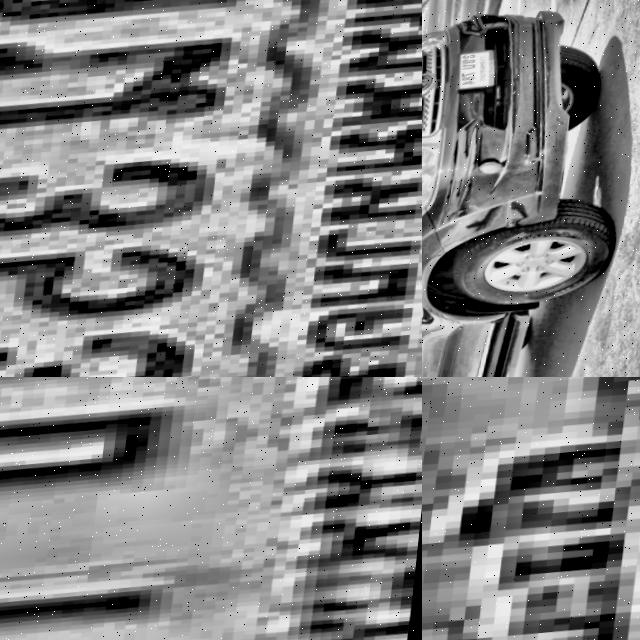license-plate: (0, 0, 422, 377), (0, 377, 422, 640), (422, 377, 640, 640), (454, 52, 506, 101)
